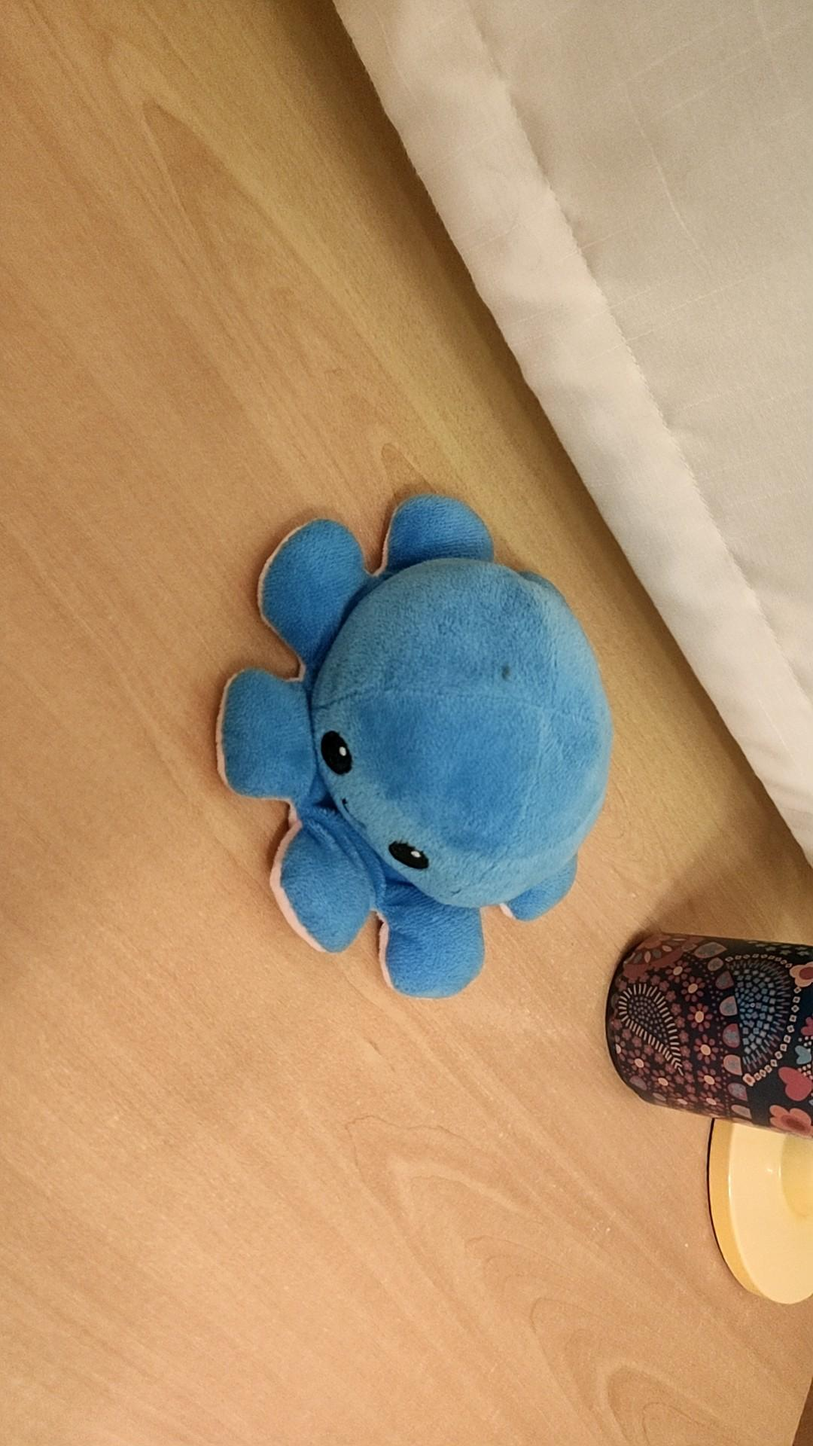toy: (217, 496, 611, 997)
